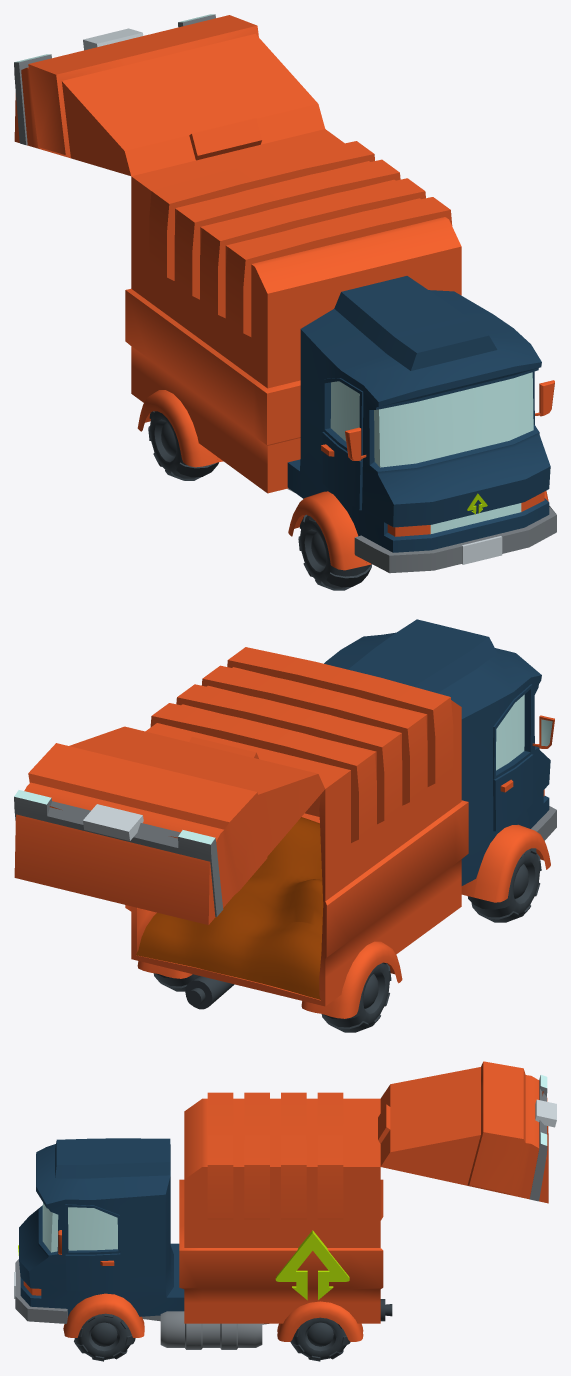
The model's file is Camión_02.fbx.
3 views of the same model, one above another, from view 1: azimuth 30°, elevation 25°; view 2: azimuth 150°, elevation 25°; view 3: azimuth 270°, elevation 25° (orthographic). The views are drawn at different scales.
Parts seen in each view (by area): view 1: Camión_02; view 2: Camión_02; view 3: Camión_02.
Part boxes in pixels (x1=…): Camión_02: x1=14, y1=14, x2=556, y2=590; Camión_02: x1=14, y1=619, x2=556, y2=1032; Camión_02: x1=14, y1=1061, x2=556, y2=1361.
Bounding box in the file's own units: 392 × 563 × 1187.
